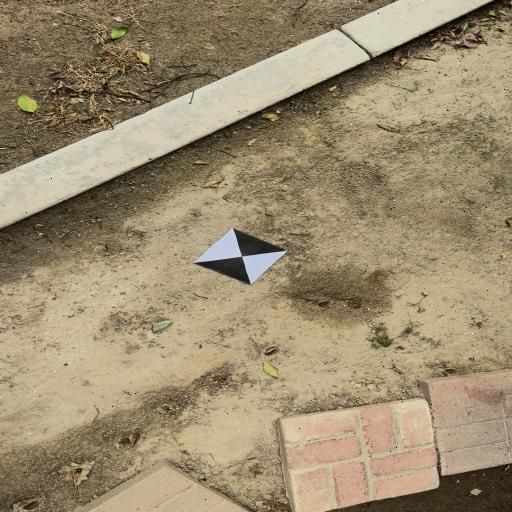target: (193, 228, 288, 284)
